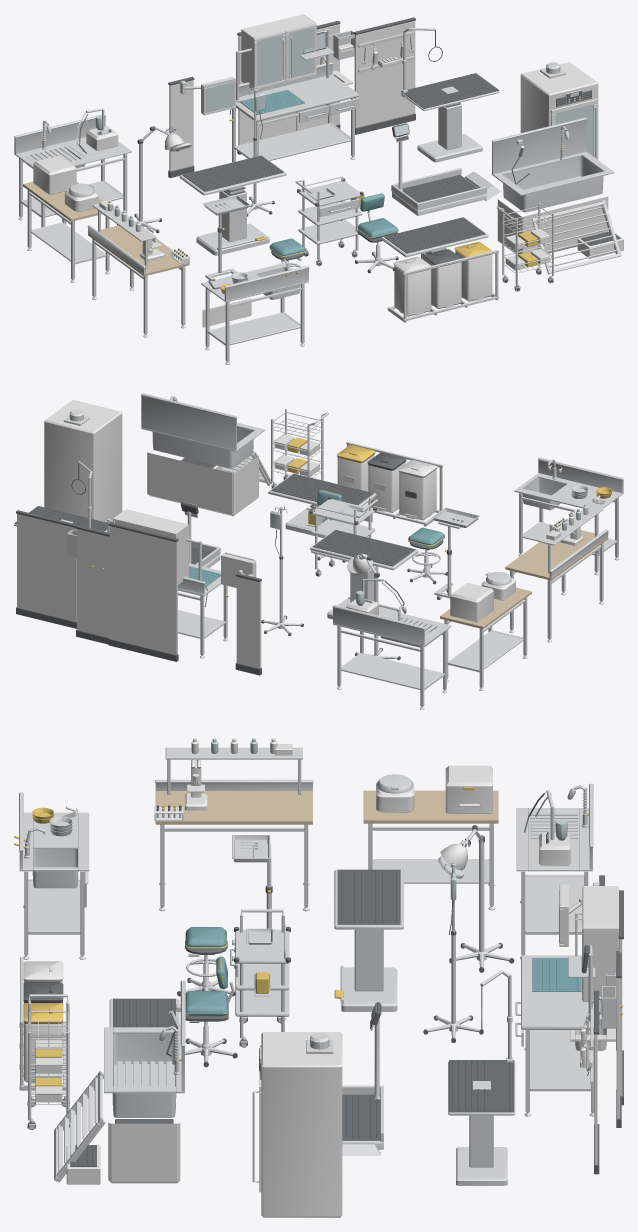
Rendered from clinic-and-veterinary-practice-veterinary-prep-and-tre-f552e20b__16838.glb.
The picture shows the model from 3 angles, top to bottom: view 1: azimuth 30°, elevation 25°; view 2: azimuth 150°, elevation 25°; view 3: azimuth 270°, elevation 25°; orthographic projection. The views are drawn at different scales.
Visible parts, largest first — view 1: 008-grooming-bath/2, 002-prep-induction-bench/0, 013-feed-prep-bench/0, 006-clipper-tool-rail/0, 004-dental-scaling-bench/0, 022-waste-segregation-bins/1, 008-grooming-bath/0, 009-dryer-cabinet/0, 017-treatment-trolley/0, 003-vet-prep-wall-cabinet/0, 007-grooming-table/0, 010-lab-bench-microscope/0 (+34 smaller); view 2: 003-vet-prep-wall-cabinet/0, 009-dryer-cabinet/0, 004-dental-scaling-bench/0, 008-grooming-bath/2, 006-clipper-tool-rail/0, 013-feed-prep-bench/0, 008-grooming-bath/0, 022-waste-segregation-bins/1, 023-clinical-hand-wash-basin/0, 005-x-ray-viewing-screen/0, 011-centrifuge-analyser-bench/0, 002-prep-induction-bench/0 (+25 smaller); view 3: 009-dryer-cabinet/0, 013-feed-prep-bench/0, 002-prep-induction-bench/0, 004-dental-scaling-bench/0, 008-grooming-bath/2, 008-grooming-bath/0, 017-treatment-trolley/0, 010-lab-bench-microscope/0, 010-lab-bench-microscope/1, 000-vet-examination-table/0, 007-grooming-table/0, 003-vet-prep-wall-cabinet/0 (+30 smaller).
Part boxes in pixels (x1=…): 008-grooming-bath/2: x1=491, y1=117, x2=614, y2=217; 002-prep-induction-bench/0: x1=232, y1=29, x2=359, y2=182; 013-feed-prep-bench/0: x1=201, y1=259, x2=309, y2=364; 006-clipper-tool-rail/0: x1=354, y1=21, x2=415, y2=127; 004-dental-scaling-bench/0: x1=14, y1=108, x2=131, y2=227; 022-waste-segregation-bins/1: x1=394, y1=251, x2=492, y2=316; 008-grooming-bath/0: x1=497, y1=196, x2=623, y2=258; 009-dryer-cabinet/0: x1=520, y1=62, x2=598, y2=159; 017-treatment-trolley/0: x1=295, y1=176, x2=362, y2=266; 003-vet-prep-wall-cabinet/0: x1=238, y1=14, x2=316, y2=145; 007-grooming-table/0: x1=400, y1=28, x2=499, y2=162; 010-lab-bench-microscope/0: x1=87, y1=203, x2=185, y2=337; 003-vet-prep-wall-cabinet/0: x1=109, y1=509, x2=188, y2=654; 009-dryer-cabinet/0: x1=44, y1=400, x2=122, y2=522; 004-dental-scaling-bench/0: x1=332, y1=579, x2=451, y2=709; 008-grooming-bath/2: x1=141, y1=393, x2=264, y2=468; 006-clipper-tool-rail/0: x1=17, y1=514, x2=76, y2=621; 013-feed-prep-bench/0: x1=514, y1=457, x2=623, y2=575; 008-grooming-bath/0: x1=147, y1=452, x2=258, y2=516; 022-waste-segregation-bins/1: x1=337, y1=454, x2=436, y2=520; 023-clinical-hand-wash-basin/0: x1=77, y1=529, x2=109, y2=637; 005-x-ray-viewing-screen/0: x1=221, y1=553, x2=261, y2=668; 011-centrifuge-analyser-bench/0: x1=444, y1=597, x2=527, y2=690; 002-prep-induction-bench/0: x1=107, y1=518, x2=227, y2=658; 009-dryer-cabinet/0: x1=261, y1=1032, x2=342, y2=1217; 013-feed-prep-bench/0: x1=19, y1=792, x2=89, y2=959; 002-prep-induction-bench/0: x1=521, y1=945, x2=600, y2=1116; 004-dental-scaling-bench/0: x1=516, y1=783, x2=593, y2=958; 008-grooming-bath/2: x1=100, y1=980, x2=185, y2=1122; 008-grooming-bath/0: x1=66, y1=1122, x2=180, y2=1184; 017-treatment-trolley/0: x1=235, y1=909, x2=289, y2=1046; 010-lab-bench-microscope/0: x1=155, y1=747, x2=313, y2=911; 010-lab-bench-microscope/1: x1=155, y1=791, x2=312, y2=824; 000-vet-examination-table/0: x1=334, y1=869, x2=403, y2=1011; 007-grooming-table/0: x1=448, y1=970, x2=515, y2=1185; 003-vet-prep-wall-cabinet/0: x1=583, y1=886, x2=622, y2=1095.
Size of the model in its own units: 7.1 by 1.73 by 5.42.
